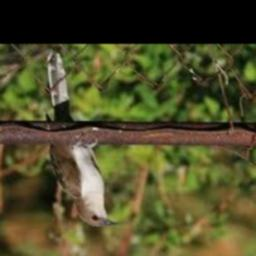Cuckoo: (47, 51, 119, 227)
